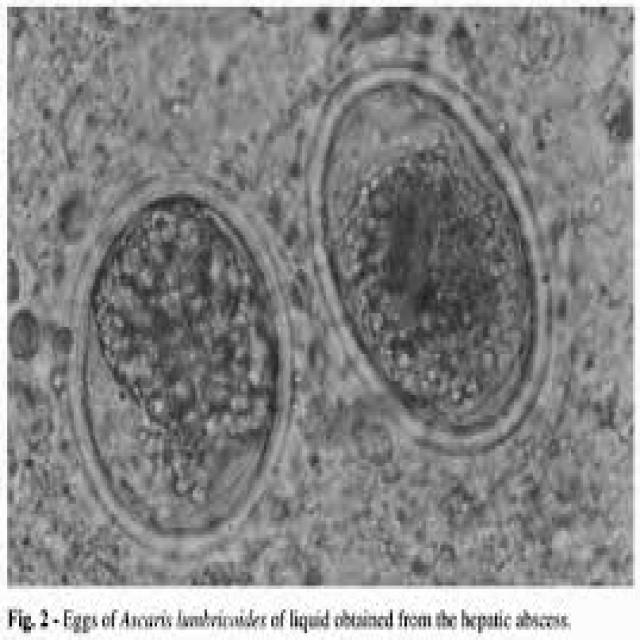Ascaris Lumbricoides: (303, 54, 558, 470), (56, 165, 306, 570)
